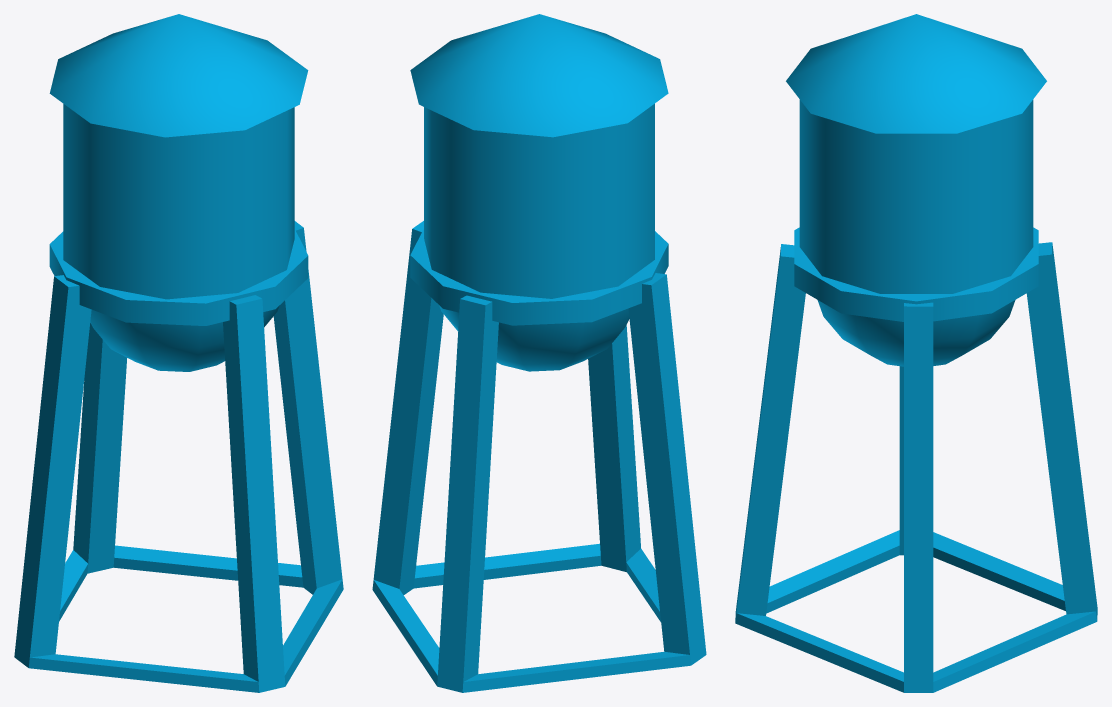
File: Water_Tower_02_Lod1.fbx
3 renders of one model, left to right at view 1: azimuth 30°, elevation 25°; view 2: azimuth 150°, elevation 25°; view 3: azimuth 270°, elevation 25°, orthographic.
Visible parts, largest first — view 1: Water_Tower_02_Lod1; view 2: Water_Tower_02_Lod1; view 3: Water_Tower_02_Lod1.
Boxes of the visible parts, x1=… form: Water_Tower_02_Lod1: x1=14, y1=14, x2=343, y2=692; Water_Tower_02_Lod1: x1=372, y1=14, x2=706, y2=692; Water_Tower_02_Lod1: x1=735, y1=14, x2=1097, y2=692.
Size of the model in its own units: 602 by 1109 by 602.
